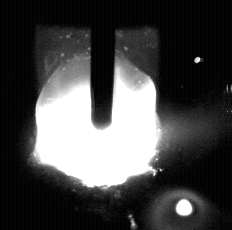arame: (92, 0, 113, 129)
poca: (34, 0, 158, 230)
